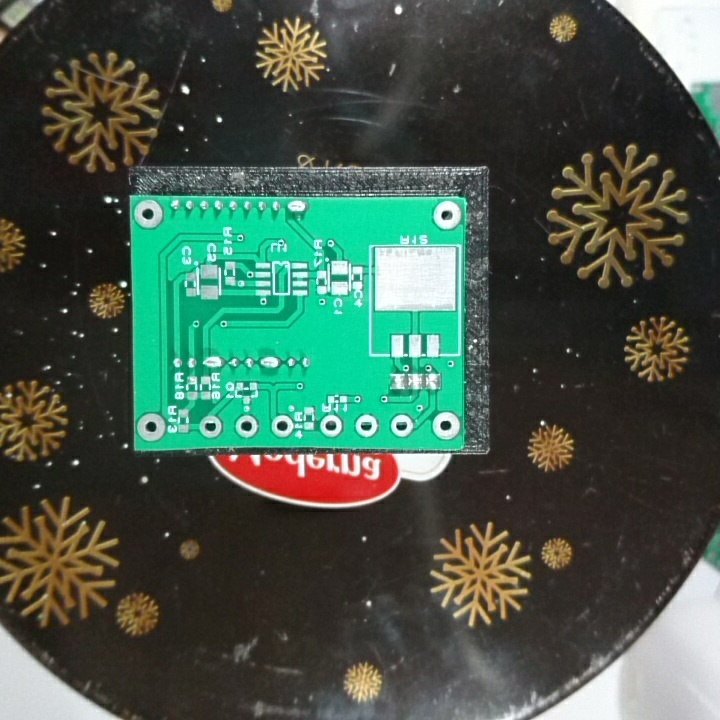F: (131, 196, 165, 229), (431, 199, 462, 231), (430, 409, 461, 441), (136, 412, 166, 443), (388, 411, 415, 441), (352, 411, 378, 440), (197, 413, 224, 439), (318, 412, 344, 438), (234, 414, 261, 439), (269, 414, 294, 439)
P: (285, 198, 312, 216), (257, 353, 282, 372), (202, 354, 225, 371)
